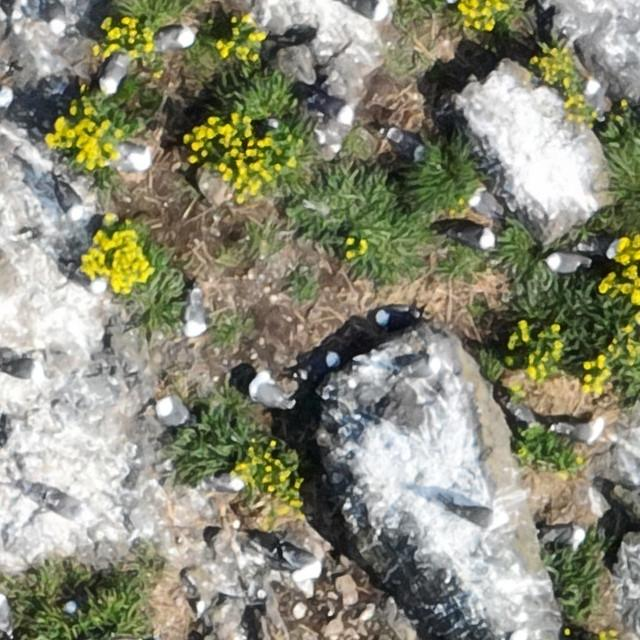umineko: (53, 172, 85, 223), (112, 140, 154, 169), (395, 355, 441, 379), (252, 380, 286, 407), (103, 55, 129, 90), (76, 266, 106, 296), (559, 421, 601, 442), (312, 97, 352, 119), (156, 26, 194, 48), (388, 131, 422, 154), (454, 228, 493, 248), (187, 293, 206, 333), (454, 505, 494, 523), (282, 548, 318, 568), (348, 1, 385, 20), (157, 398, 186, 422), (3, 361, 38, 380), (547, 255, 581, 274), (469, 194, 497, 217), (587, 80, 605, 114), (208, 475, 242, 492), (552, 528, 582, 547), (375, 309, 400, 327), (47, 3, 63, 30), (315, 354, 337, 373), (0, 595, 10, 630), (63, 598, 79, 614)
